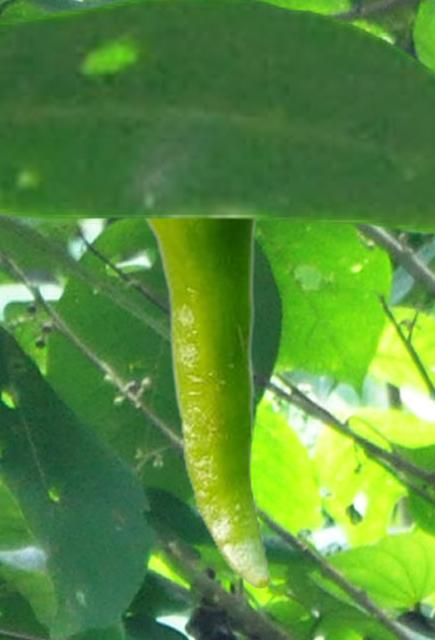green_chili: (141, 220, 268, 588)
